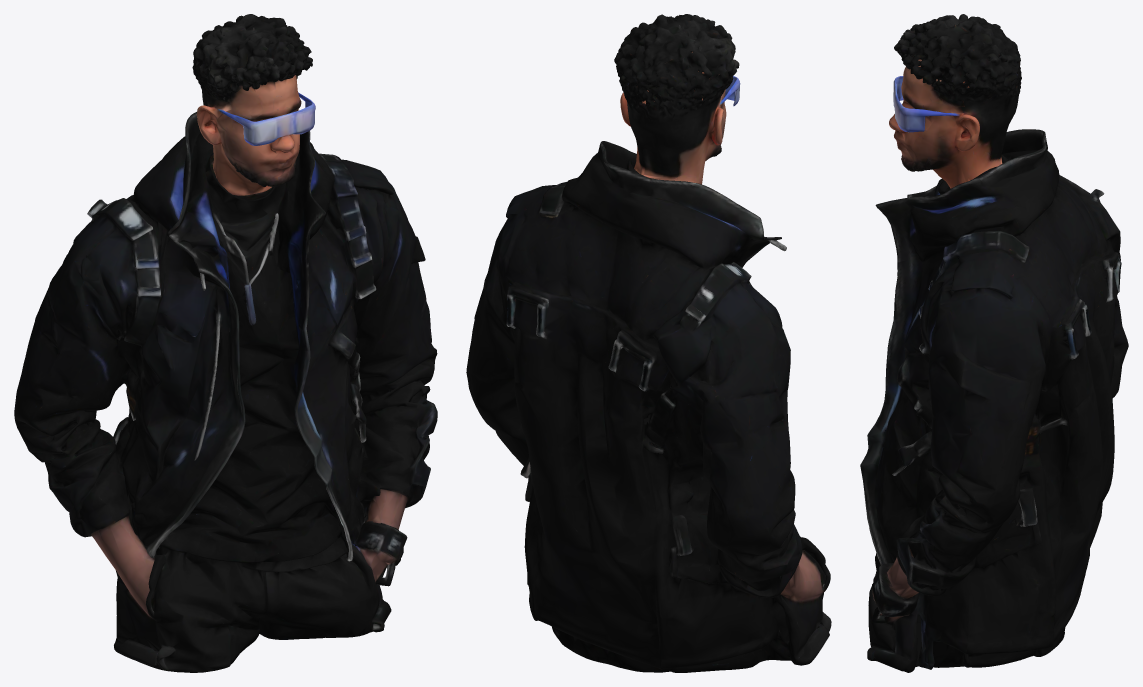
File: abel.glb
The picture shows the model from 3 angles, left to right: view 1: azimuth 30°, elevation 25°; view 2: azimuth 150°, elevation 25°; view 3: azimuth 270°, elevation 25°; orthographic projection.
Visible parts, largest first — view 1: geometry_0; view 2: geometry_0; view 3: geometry_0.
Part boxes in pixels (box(x1,y1,x2,y2)): geometry_0: box(14, 14, 437, 672); geometry_0: box(466, 14, 831, 672); geometry_0: box(860, 14, 1128, 672).
Size of the model in its own units: 0.6292 by 0.9924 by 0.403.
1 material, 1 textured.
